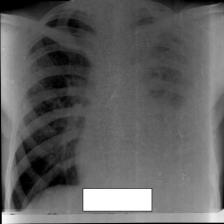tuberculosis: (2, 2, 212, 222)
